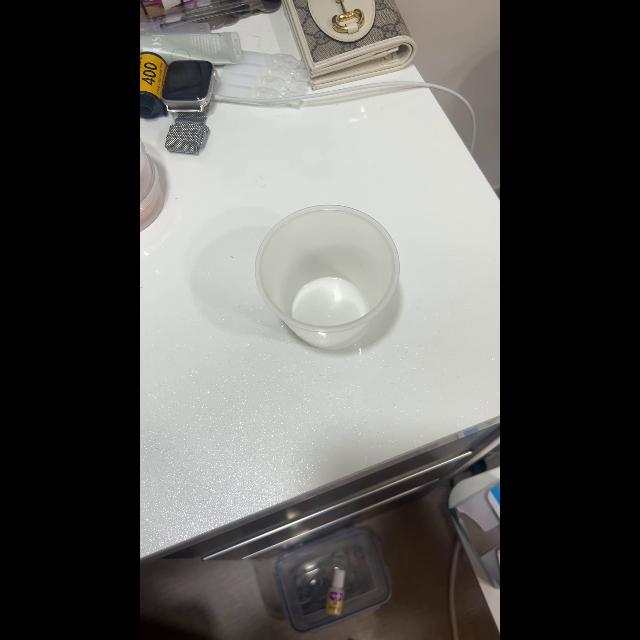clean: (259, 198, 403, 358)
